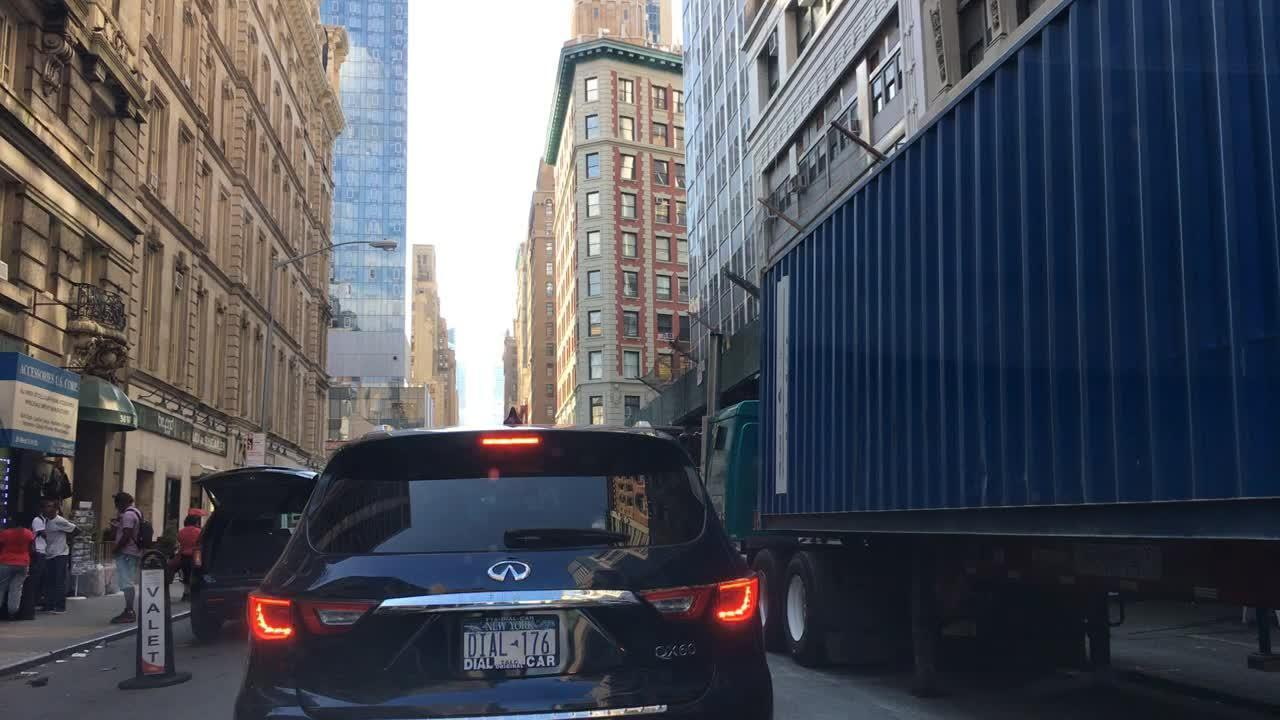Infiniti: (483, 559, 533, 586)
